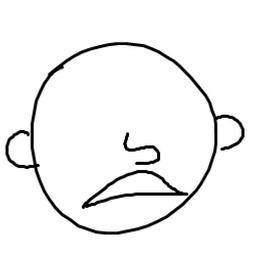ear: (4, 127, 41, 172), (208, 114, 248, 154)
nose: (119, 130, 165, 167)
open_mouth: (76, 167, 189, 211)
